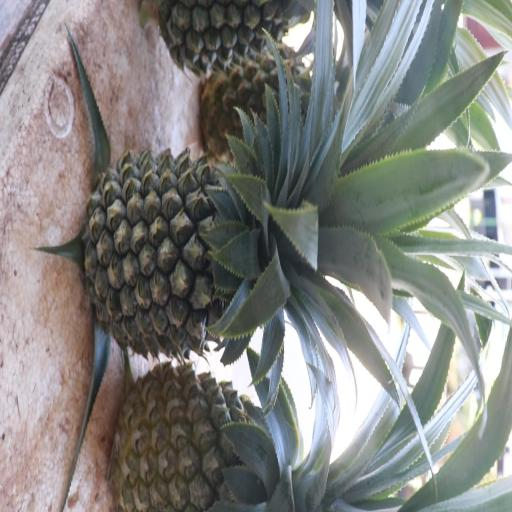------------------------------: (120, 368, 298, 512)
